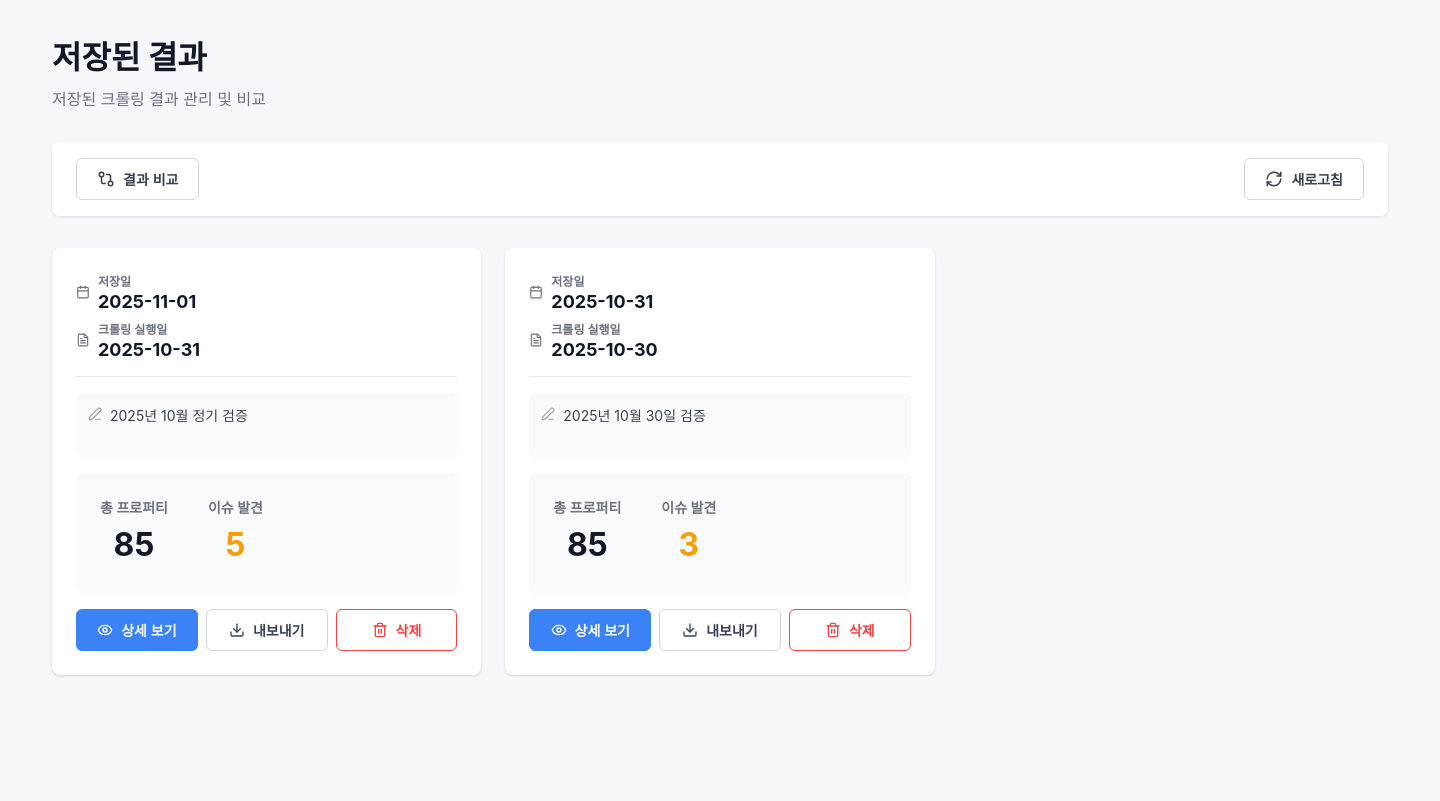
Test: SavedResults Page › Detail View › should fetch and display result detail when view button clicked
Check: the text "2025년 10월 정기 검증" is shown, box left=110, top=407, right=248, bottom=424
What coordinates should you click on to do the following:
click the button "상세 보기" below "2025년 10월 정기 검증"
I would click on:
 (137, 630)
Its box is left=76, top=609, right=198, bottom=651.
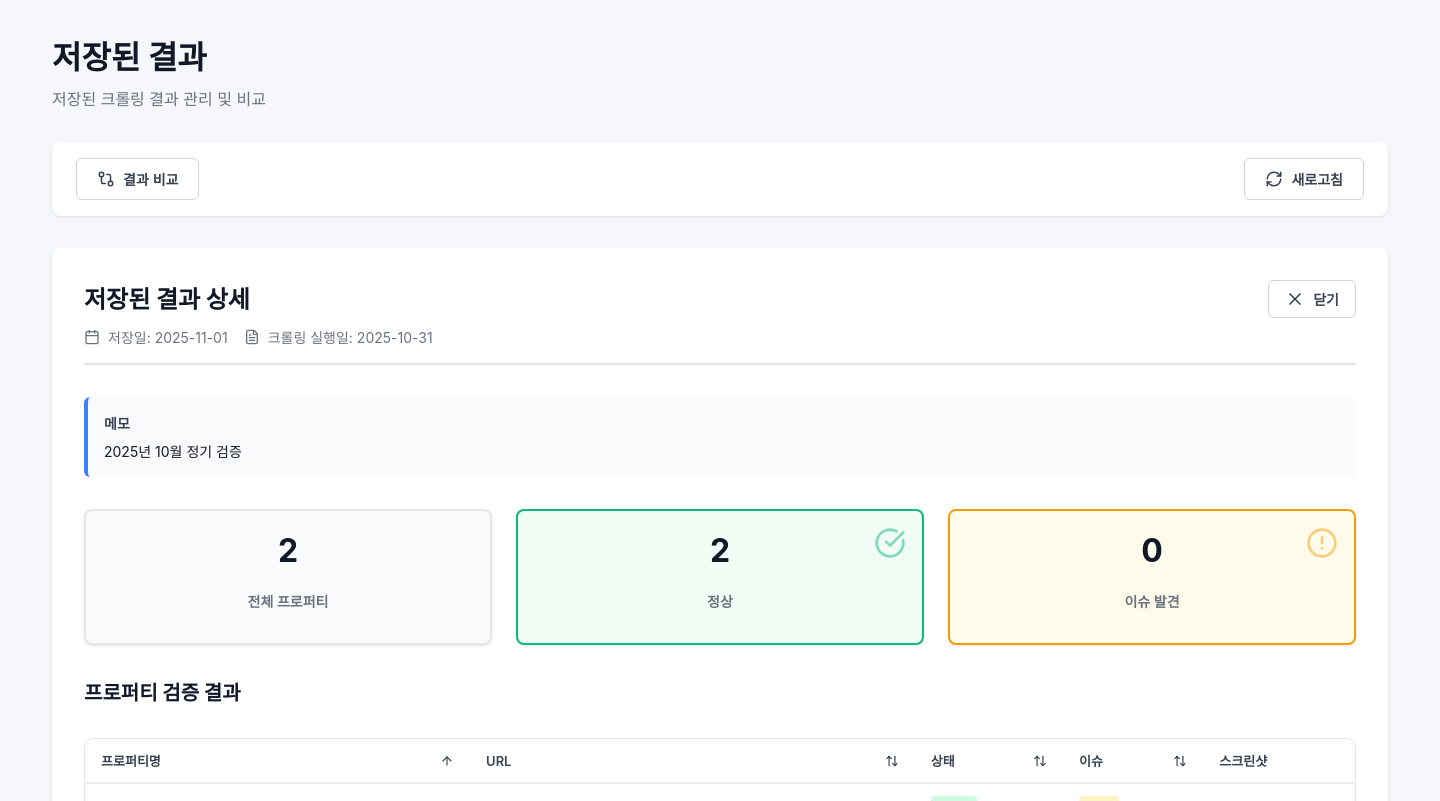
Check: the heading "저장된 결과 상세" is shown, box left=84, top=285, right=250, bottom=314
Check: the text "[EC] AMOREPACIFIC - US" is shown 2 times
